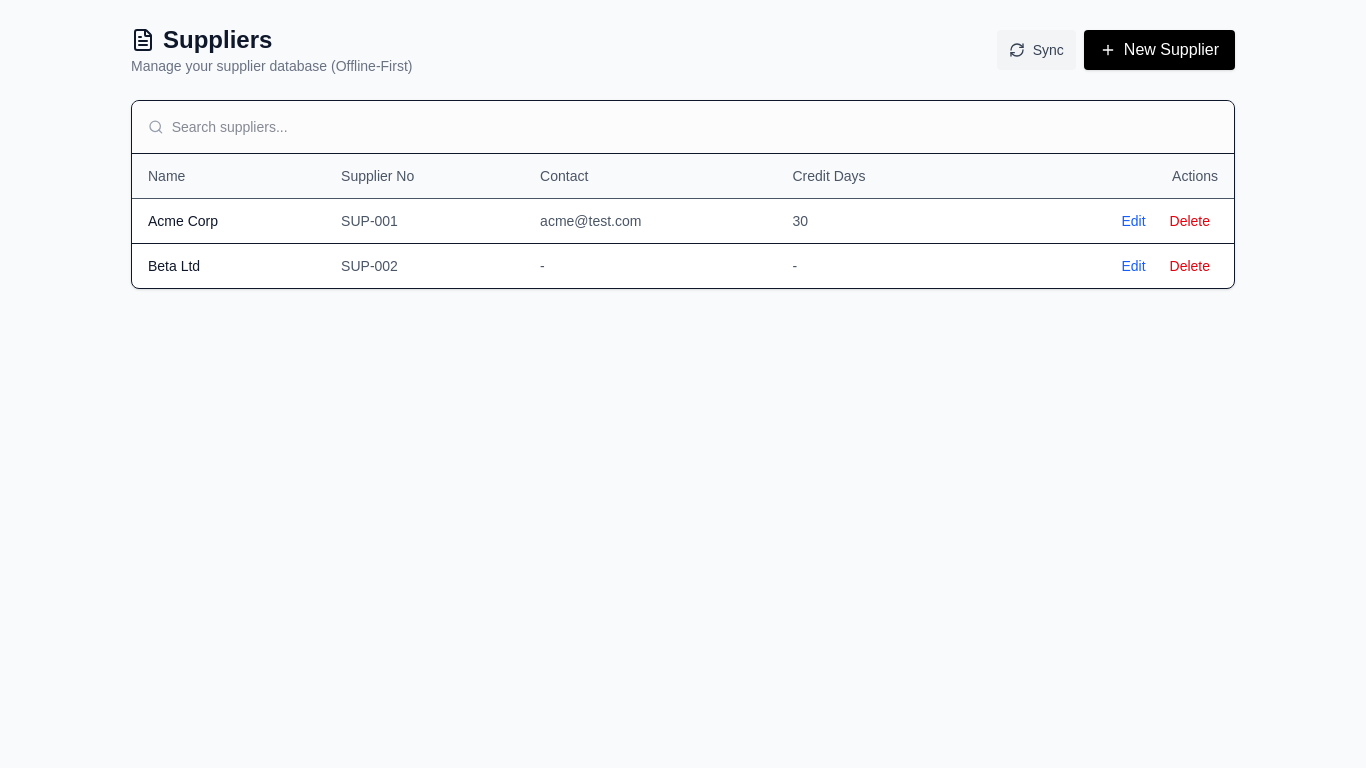
Scenario: SuppliersPage › opens new supplier form when "New Supplier" clicked
Click the button "New Supplier". click: (1159, 50)
box: [1084,30,1235,70]
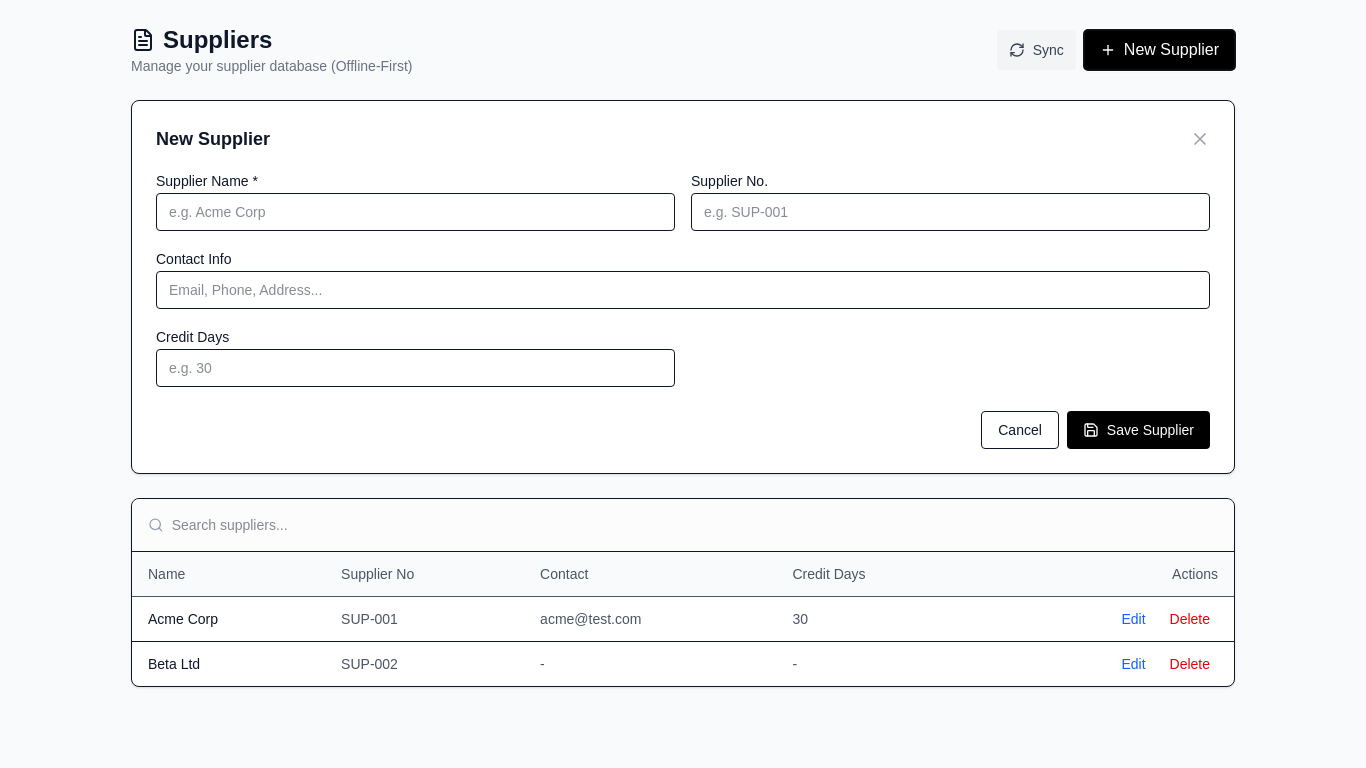
Now the heading "New Supplier" is shown, box [156,125,270,153]
Now the field with placeholder "e.g. Acme Corp" is shown, box [156,193,675,231]
